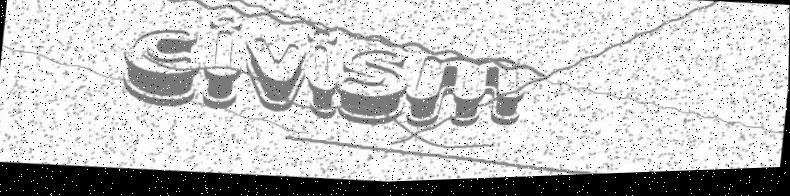c: (118, 24, 207, 114)
i: (199, 14, 248, 115), (299, 29, 347, 123)
m: (404, 53, 529, 141)
s: (333, 46, 412, 132)
v: (240, 36, 308, 117)
